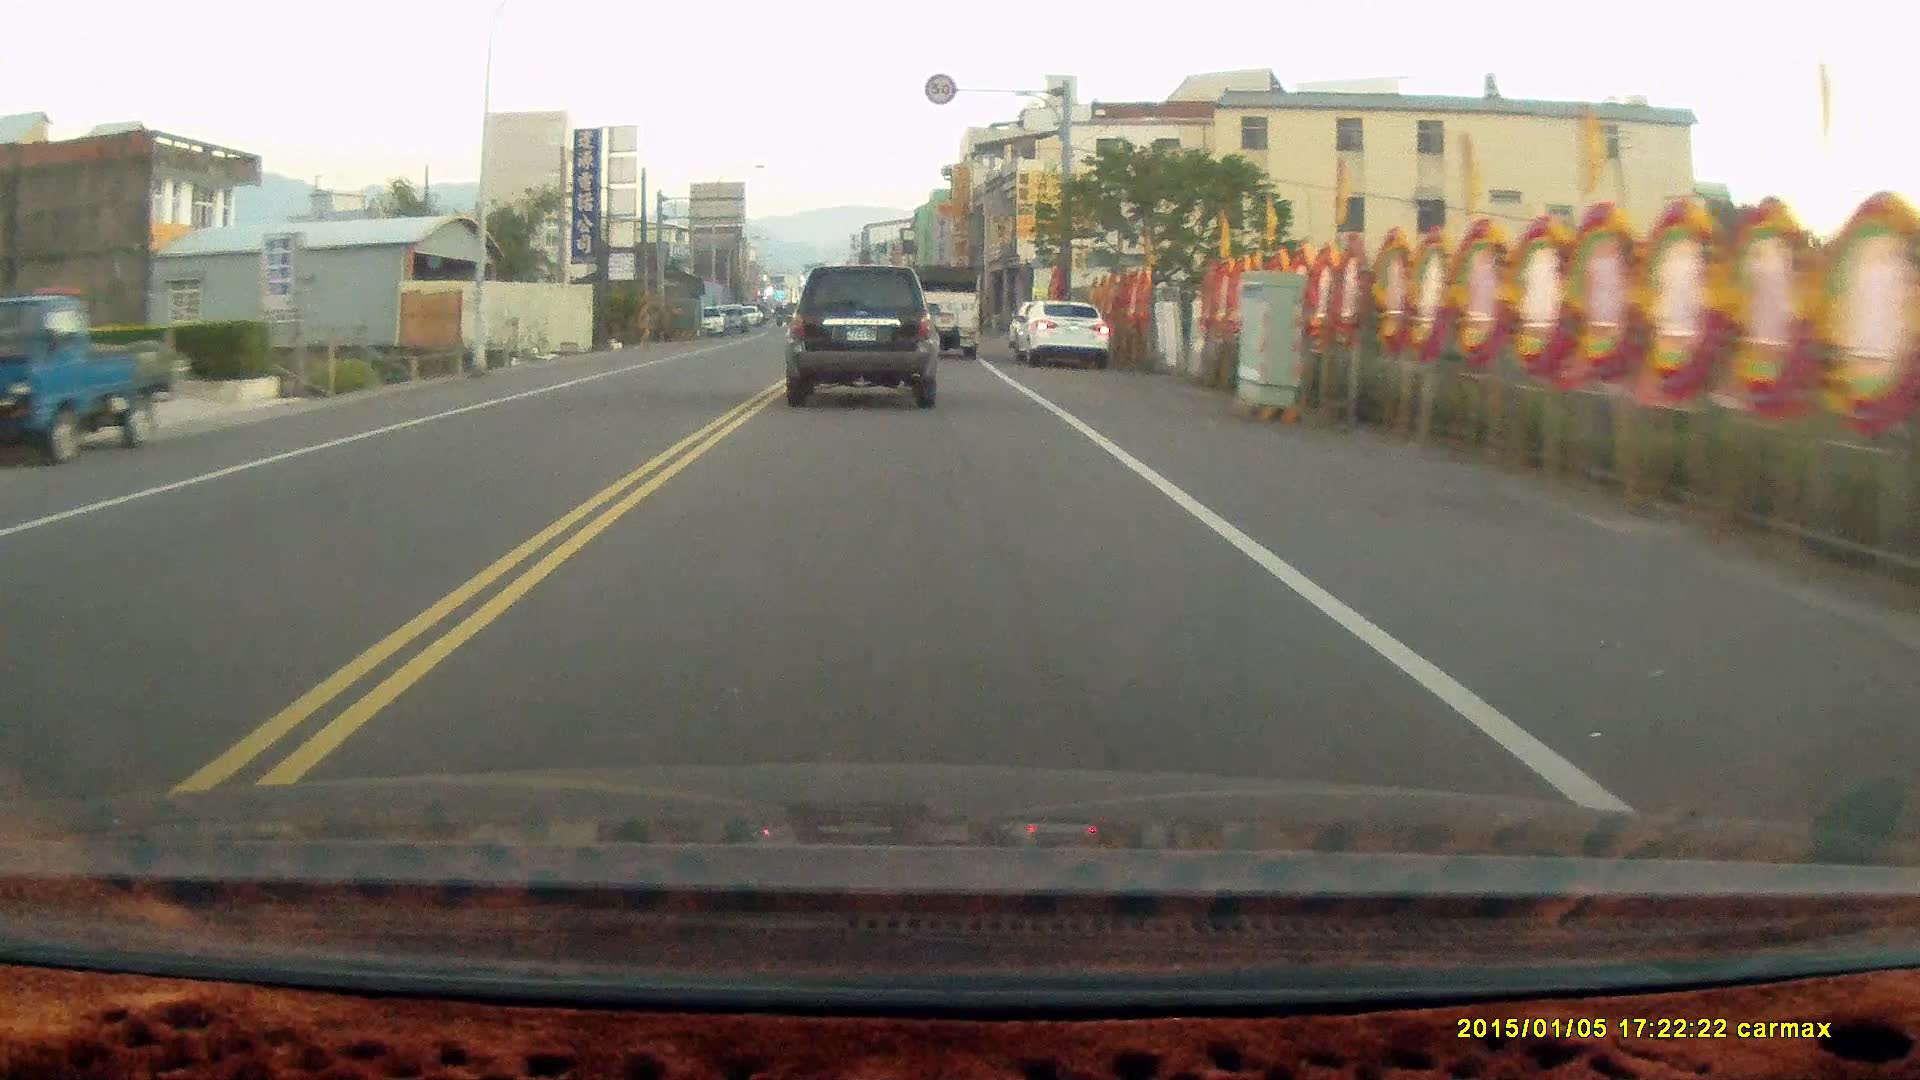vehicle: (1, 289, 178, 468), (786, 258, 938, 405), (910, 261, 984, 363), (1011, 305, 1114, 371)
